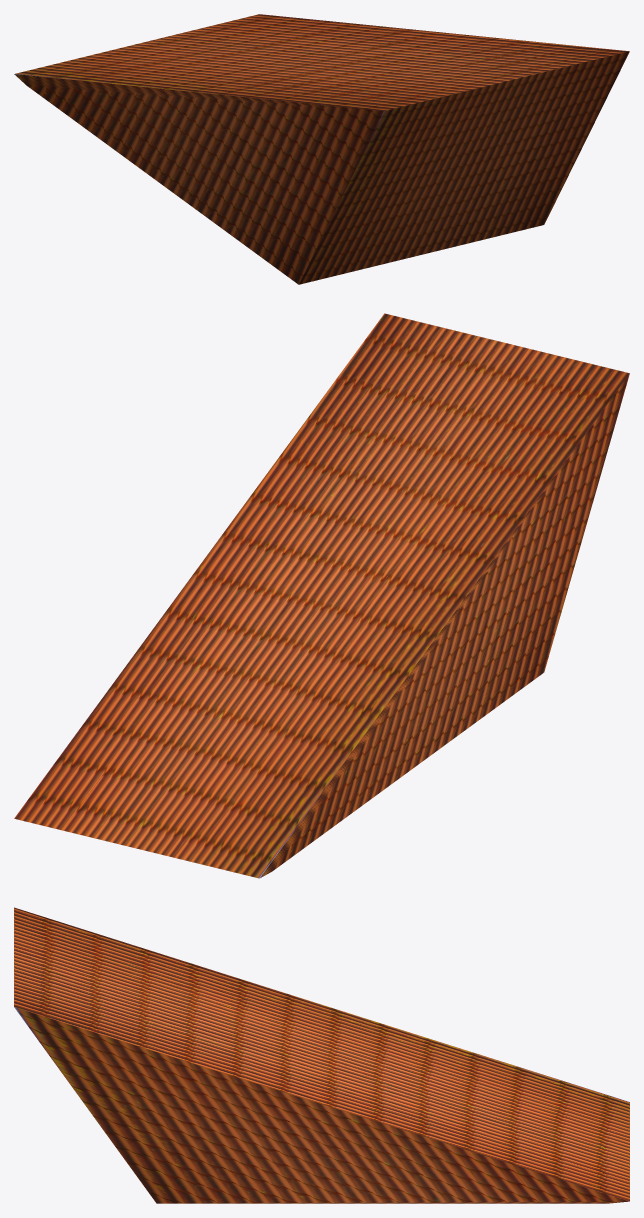
The model's file is ramproof.FBX.
The picture shows the model from 3 angles, top to bottom: view 1: azimuth 30°, elevation 25°; view 2: azimuth 150°, elevation 25°; view 3: azimuth 270°, elevation 25°; orthographic projection. The views are drawn at different scales.
Visible parts, largest first — view 1: Box001; view 2: Box001; view 3: Box001.
Part boxes in pixels (x1,y1,x2,y2): Box001: (14, 14, 629, 284); Box001: (14, 313, 629, 878); Box001: (14, 907, 629, 1203).
Bounding box in the file's own units: 36.78 × 33.86 × 96.16.
